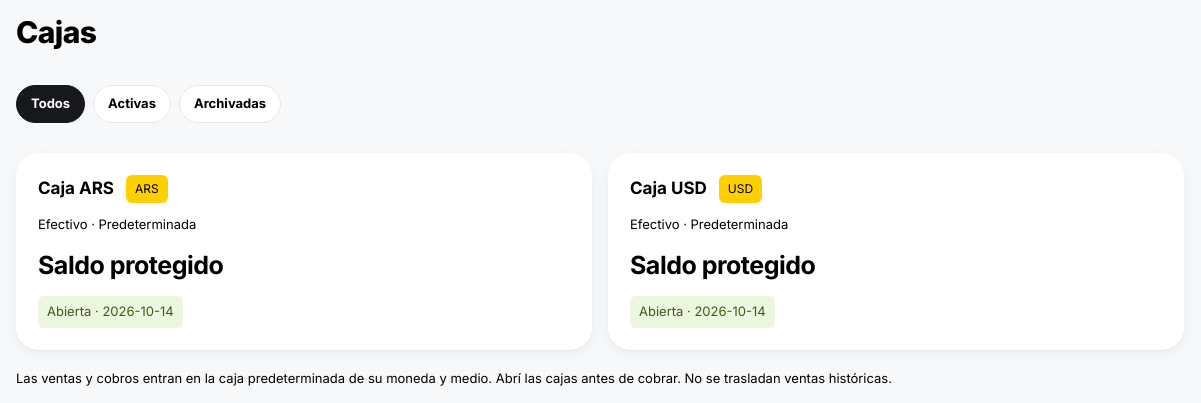
Test: pantalla de caja › no consulta historial ni ofrece administración al empleado sin saldo
Expected: the text "Saldo protegido" is shown 2 times, [38, 246, 223, 284]; [630, 246, 815, 284]
Click the button "Caja USD" at {"x": 668, "y": 188}, box [608, 153, 1184, 350]
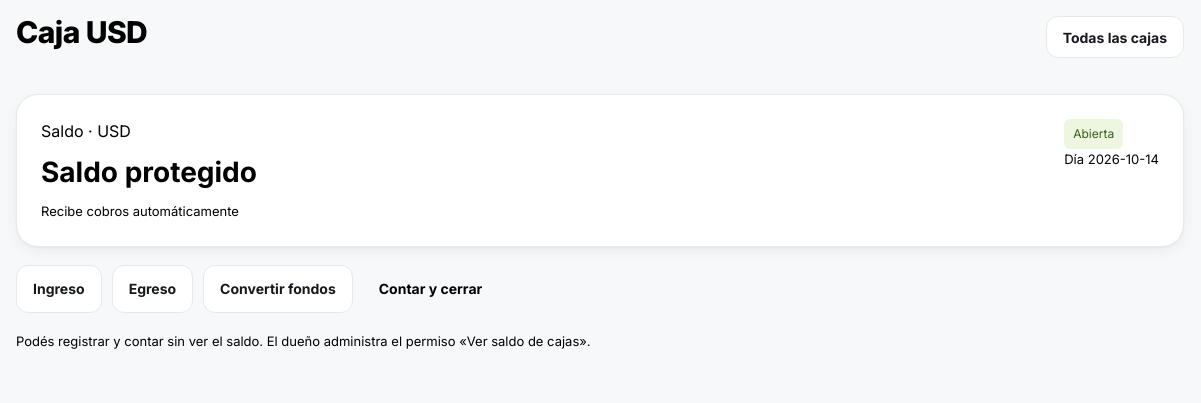
Expected: the button "Ingreso" is shown, [16, 265, 102, 313]
Expected: the button "Contar y cerrar" is shown, [363, 265, 498, 313]
